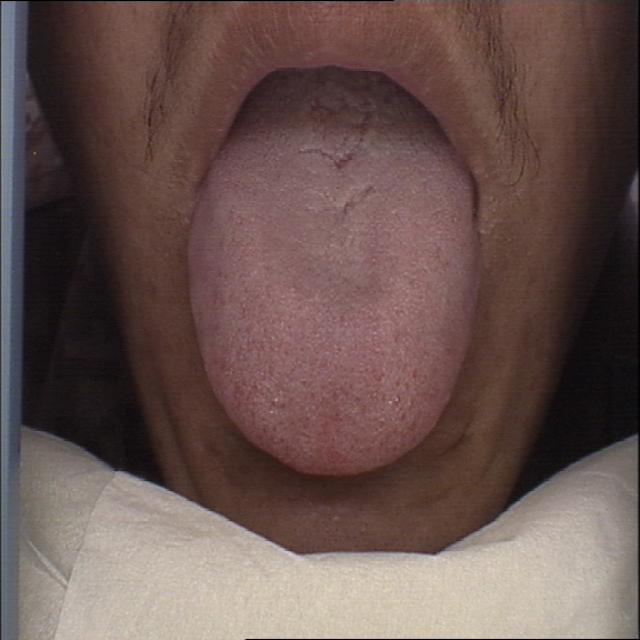tongue: (185, 88, 486, 487)
